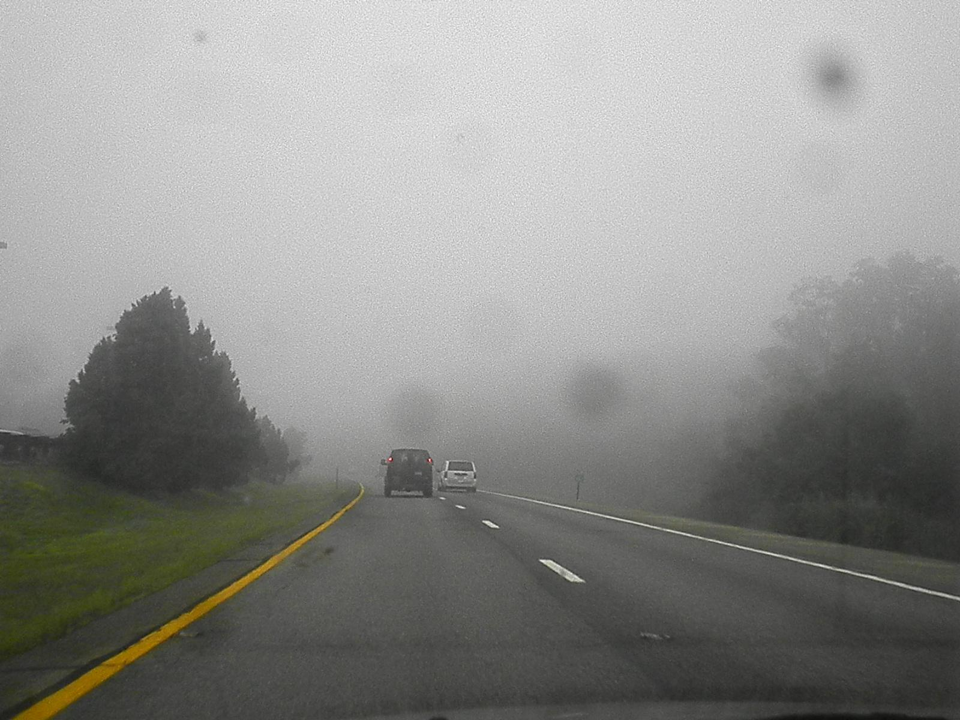car: (380, 447, 435, 499), (435, 459, 478, 494)
